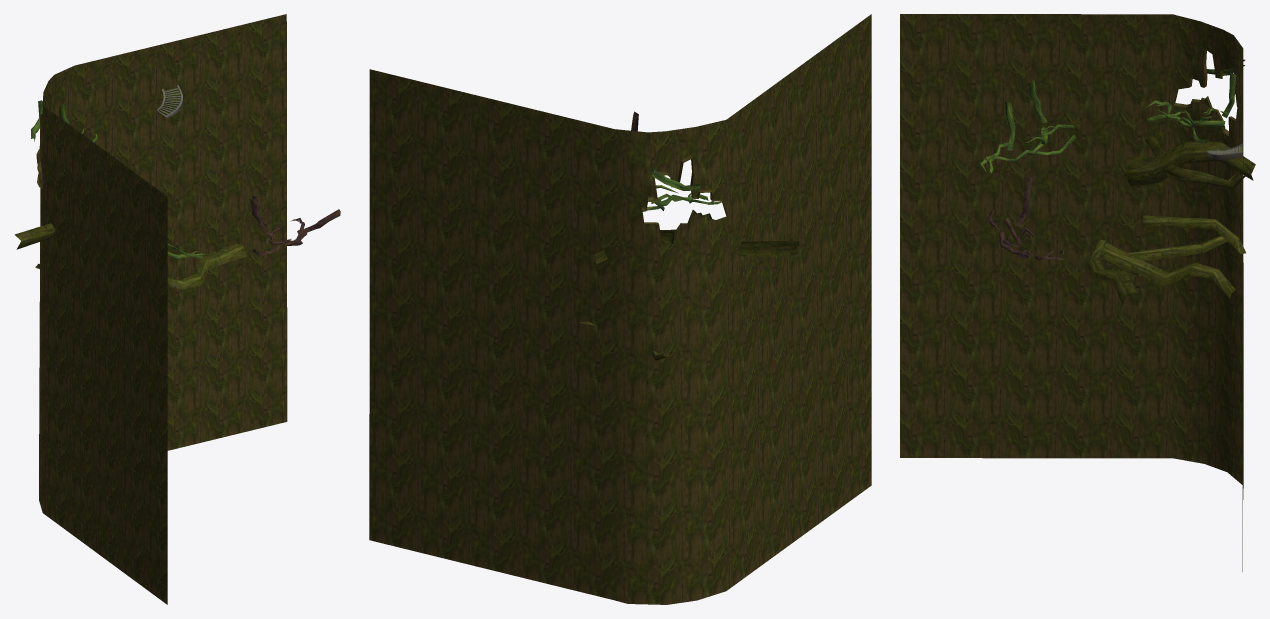
File: section04_guanka11_A.FBX
3 renders of one model, left to right at view 1: azimuth 30°, elevation 25°; view 2: azimuth 150°, elevation 25°; view 3: azimuth 270°, elevation 25°, orthographic. The views are drawn at different scales.
Parts seen in each view (by area): view 1: section04_guanka11_A; view 2: section04_guanka11_A; view 3: section04_guanka11_A.
Boxes of the visible parts, left/top/right/bottom form: section04_guanka11_A: left=14, top=14, right=340, bottom=604; section04_guanka11_A: left=369, top=14, right=871, bottom=604; section04_guanka11_A: left=900, top=14, right=1255, bottom=571.
Size of the model in its own units: 146 by 128 by 176.
